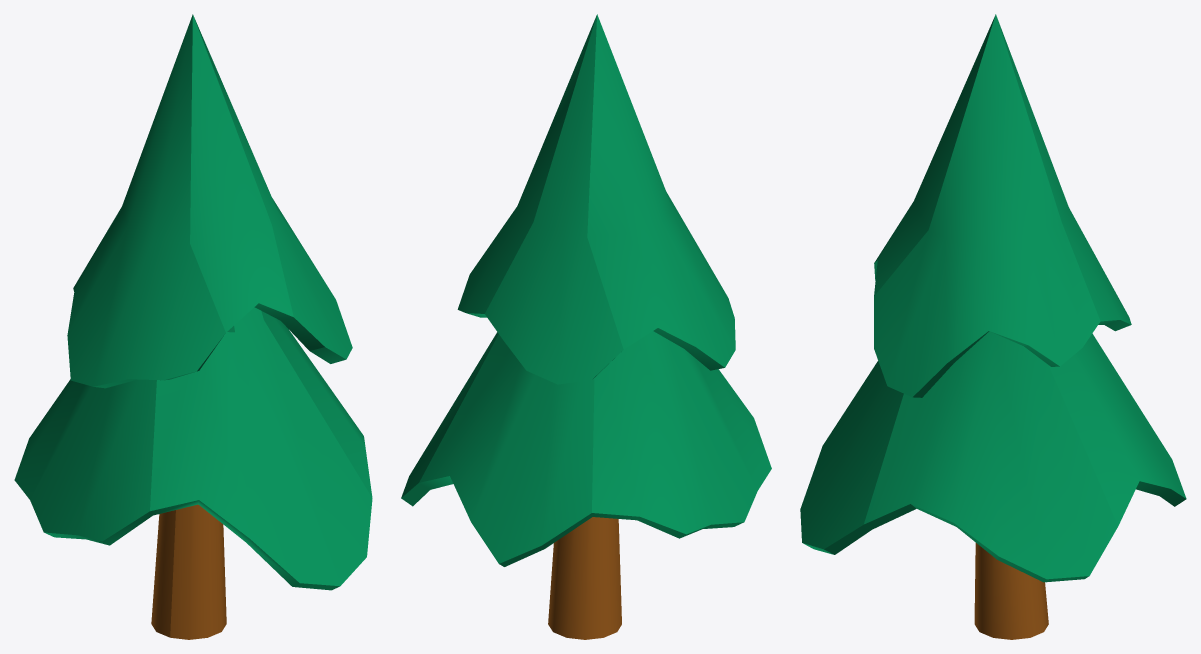
Rendered from tree_winter1.fbx.
3 views of the same model, side by side, from view 1: azimuth 30°, elevation 25°; view 2: azimuth 150°, elevation 25°; view 3: azimuth 270°, elevation 25° (orthographic).
Parts seen in each view (by area): view 1: tree_winter1; view 2: tree_winter1; view 3: tree_winter1.
Boxes of the visible parts, x1=… form: tree_winter1: x1=14, y1=14, x2=372, y2=639; tree_winter1: x1=401, y1=14, x2=771, y2=639; tree_winter1: x1=800, y1=14, x2=1186, y2=639.
Bounding box in the file's own units: 164 × 306 × 176.
